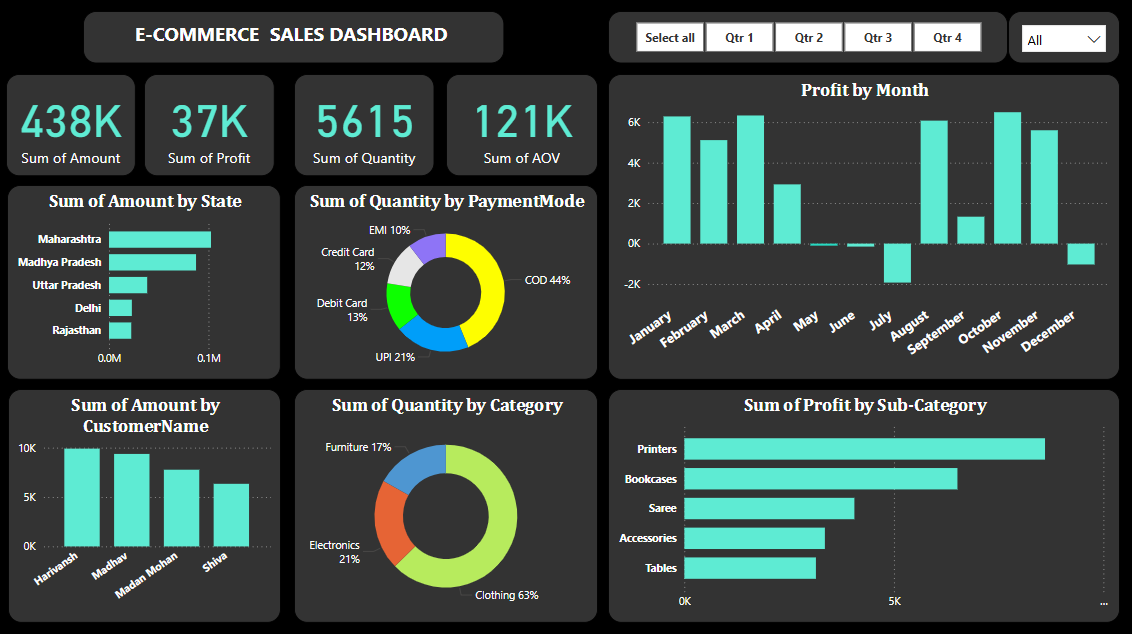

The page's visual inventory and layout, read from the dashboard file:
{"tool":"powerbi","page":{"name":"Page 1","canvas":[1280,720],"ordinal":0},"visuals":[{"type":"columnChart","title":"Profit by Month","fields":{"Category":["Orders.Order Date.Variation.Date Hierarchy.Month"],"Y":["Details.Profit"]},"box":[687.4,86.6,576,344.2],"z":0},{"type":"barChart","fields":{"Category":["Details.Sub-Category"],"Y":["Details.Profit"]},"box":[687.4,441,576,263.2],"z":1000},{"type":"donutChart","fields":{"Category":["Details.Category"],"Y":["Details.Quantity"]},"box":[334.1,441,342,263.2],"z":2000},{"type":"donutChart","fields":{"Y":["Details.Quantity"],"Category":["Details.PaymentMode"]},"box":[334.1,211.5,342,219.4],"z":3000},{"type":"card","fields":{"Values":["Details.Amount"]},"box":[10,87,146,114.7],"z":4000},{"type":"card","fields":{"Values":["Details.Profit"]},"box":[165.7,86.7,146.6,114.7],"z":5000},{"type":"card","fields":{"Values":["Details.Quantity"]},"box":[334,86.7,158.1,114.7],"z":6000},{"type":"card","fields":{"Values":["Details.AOV"]},"box":[504.9,86.7,170.8,114.7],"z":7000},{"type":"barChart","fields":{"Category":["Orders.State"],"Y":["Details.Amount"]},"box":[11.2,211.5,308.2,219.4],"z":8000},{"type":"columnChart","fields":{"Category":["Orders.CustomerName"],"Y":["Details.Amount"]},"box":[12.4,441,307.1,263.2],"z":9000},{"type":"slicer","fields":{"Values":["Orders.Order Date.Variation.Date Hierarchy.Quarter"]},"box":[687.2,15.3,450,58.6],"z":10000},{"type":"slicer","fields":{"Values":["Orders.State"]},"box":[1137.2,15.3,126.2,58.6],"z":11000},{"type":"textbox","box":[96.9,15.3,474.3,58.6],"z":12000}]}

Visuals, with their boxes in screenshot pixels (x1, y1, x2, y2), scaled from the page's 1280x720 canvas onto the 1132x634 screenshot:
"Profit by Month" columnChart: <box>608,76,1117,379</box>
barChart - Details.Sub-Category x Details.Profit: <box>608,388,1117,620</box>
donutChart - Details.Category x Details.Quantity: <box>295,388,598,620</box>
donutChart - Details.Quantity x Details.PaymentMode: <box>295,186,598,379</box>
card - Details.Amount: <box>9,77,138,178</box>
card - Details.Profit: <box>147,76,276,177</box>
card - Details.Quantity: <box>295,76,435,177</box>
card - Details.AOV: <box>447,76,598,177</box>
barChart - Orders.State x Details.Amount: <box>10,186,282,379</box>
columnChart - Orders.CustomerName x Details.Amount: <box>11,388,283,620</box>
slicer - Orders.Order Date.Variation.Date Hierarchy.Quarter: <box>608,13,1006,65</box>
slicer - Orders.State: <box>1006,13,1117,65</box>
textbox: <box>86,13,505,65</box>
